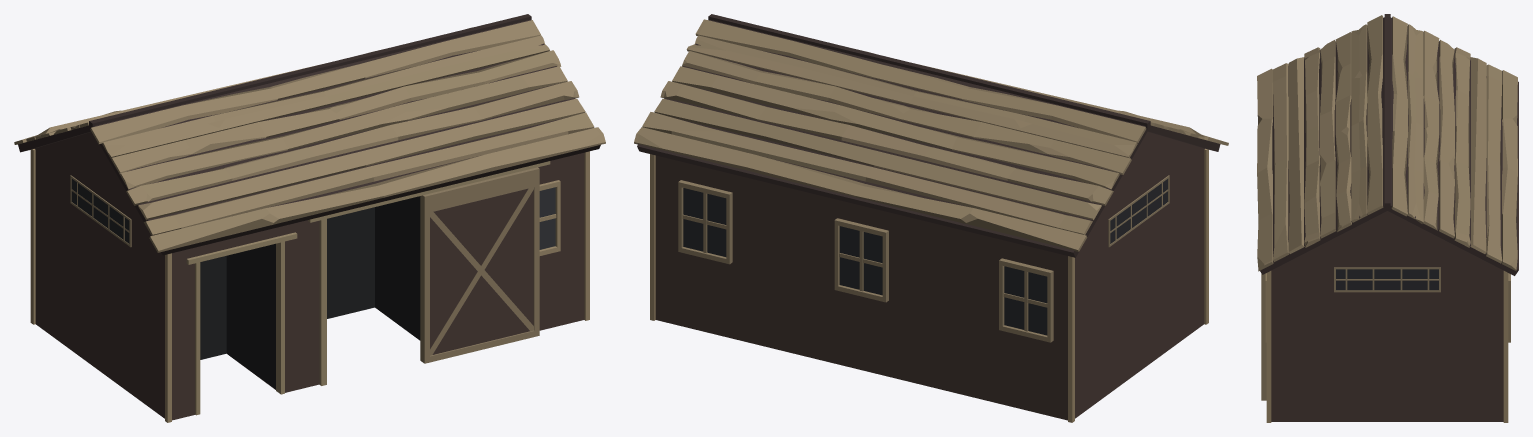
Rendered from SM_garage_01.gltf.
The picture shows the model from 3 angles, left to right: view 1: azimuth 30°, elevation 25°; view 2: azimuth 150°, elevation 25°; view 3: azimuth 270°, elevation 25°; orthographic projection. The views are drawn at different scales.
Visible parts, largest first — view 1: garage_01, garage_door; view 2: garage_01; view 3: garage_01, garage_door.
Part boxes in pixels (x1,y1,x2,y2): garage_01: (14,14,605,422); garage_door: (420,167,539,363); garage_01: (634,14,1228,422); garage_01: (1257,14,1518,422); garage_door: (1261,273,1266,400).
Bounding box in the file's own units: 1.93 × 1.04 × 1.1.
